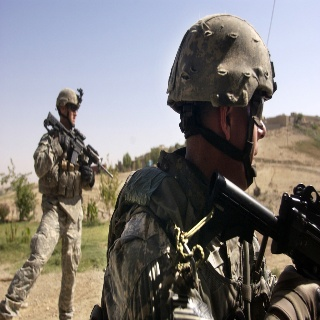rifle: (43, 111, 114, 181)
